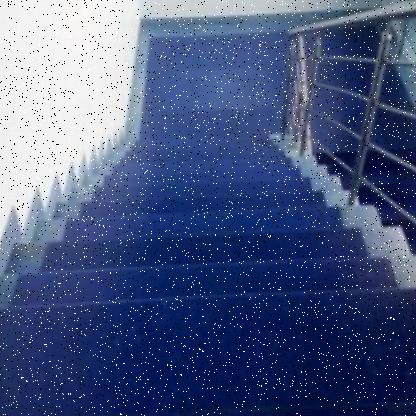stair_down: (11, 228, 358, 354)
